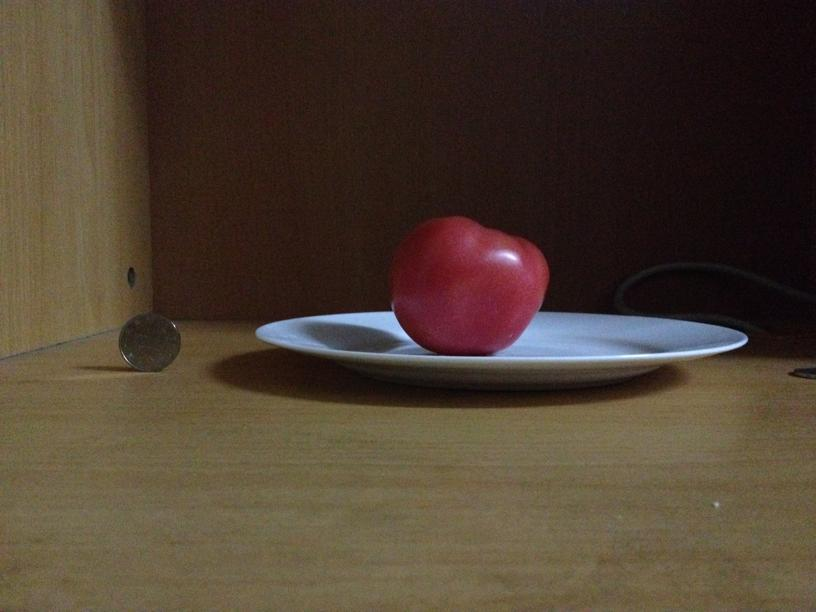coin: (117, 313, 181, 371)
tomato: (389, 214, 547, 354)
